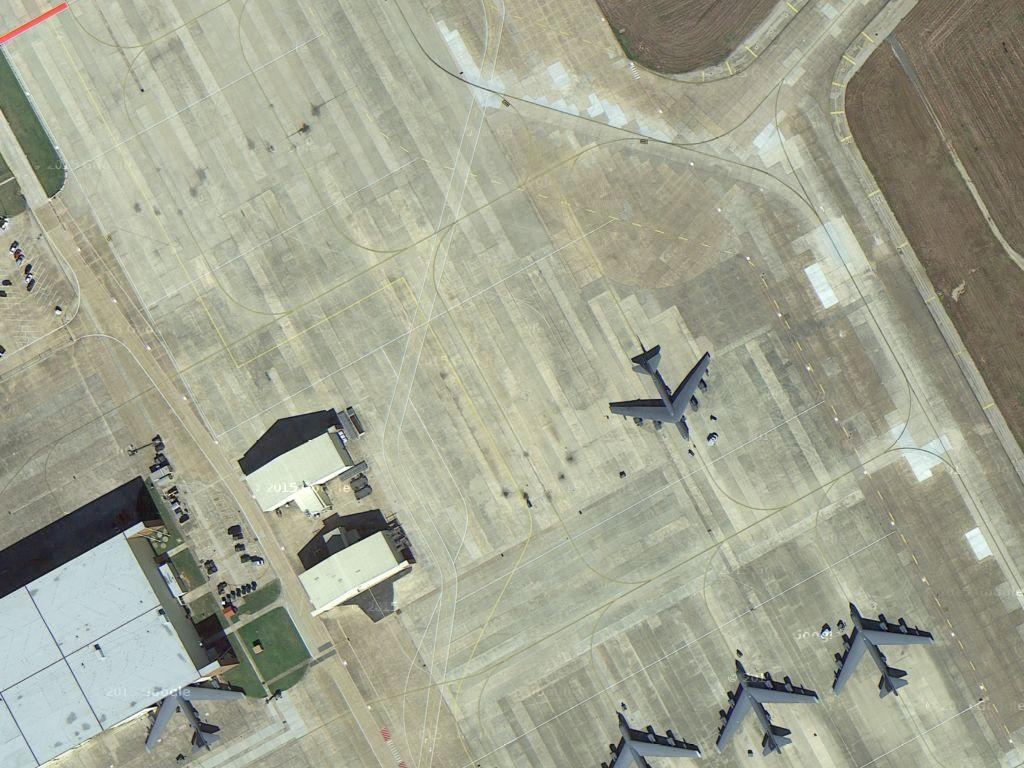B-52: (604, 342, 718, 443), (829, 603, 937, 703), (712, 666, 824, 759), (596, 710, 704, 768)
